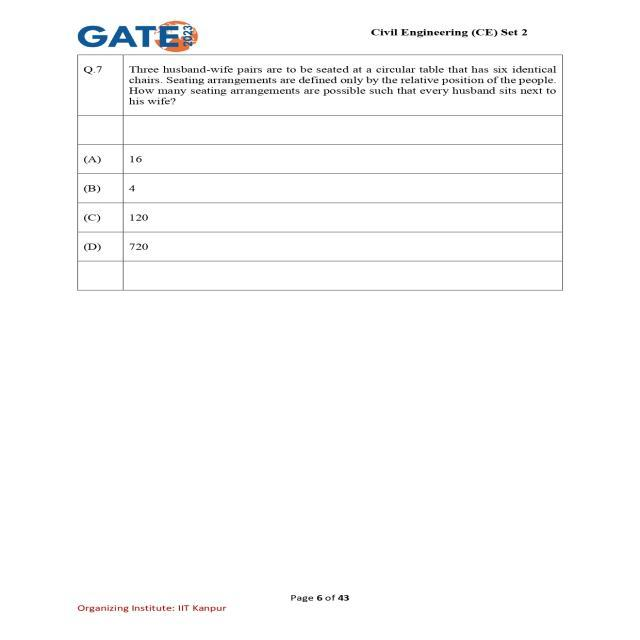Answer_Block: (48, 116, 600, 312)
Question_Answer_Block: (48, 54, 600, 312)
Question_Block: (48, 54, 600, 118)
Question_Paper_Area: (48, 54, 600, 312)
